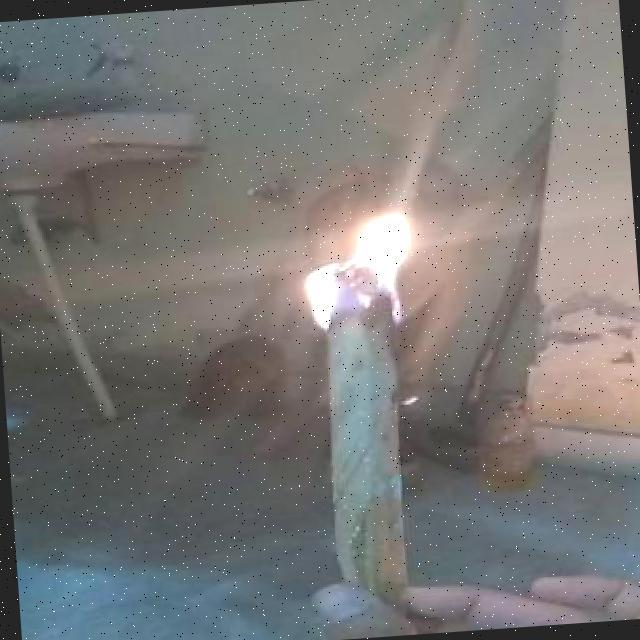Fire: (262, 191, 429, 334)
